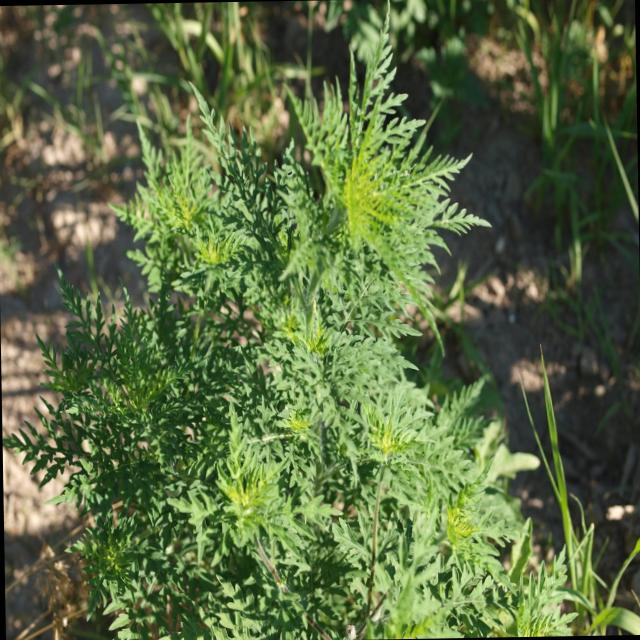ambrosia: (293, 40, 457, 307), (370, 382, 530, 633), (188, 386, 342, 628), (111, 106, 270, 304)
